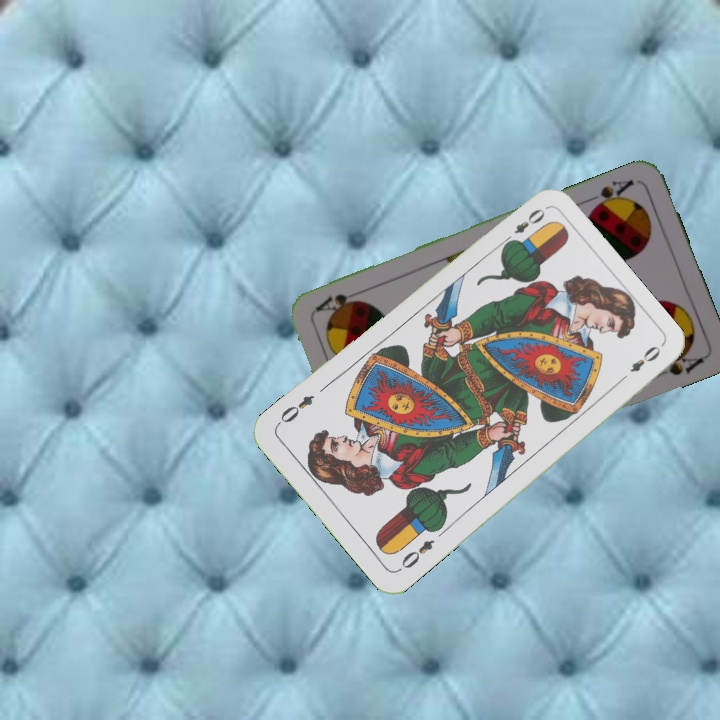EO: (498, 204, 548, 249), (394, 535, 437, 574)
SA: (582, 175, 637, 214)
